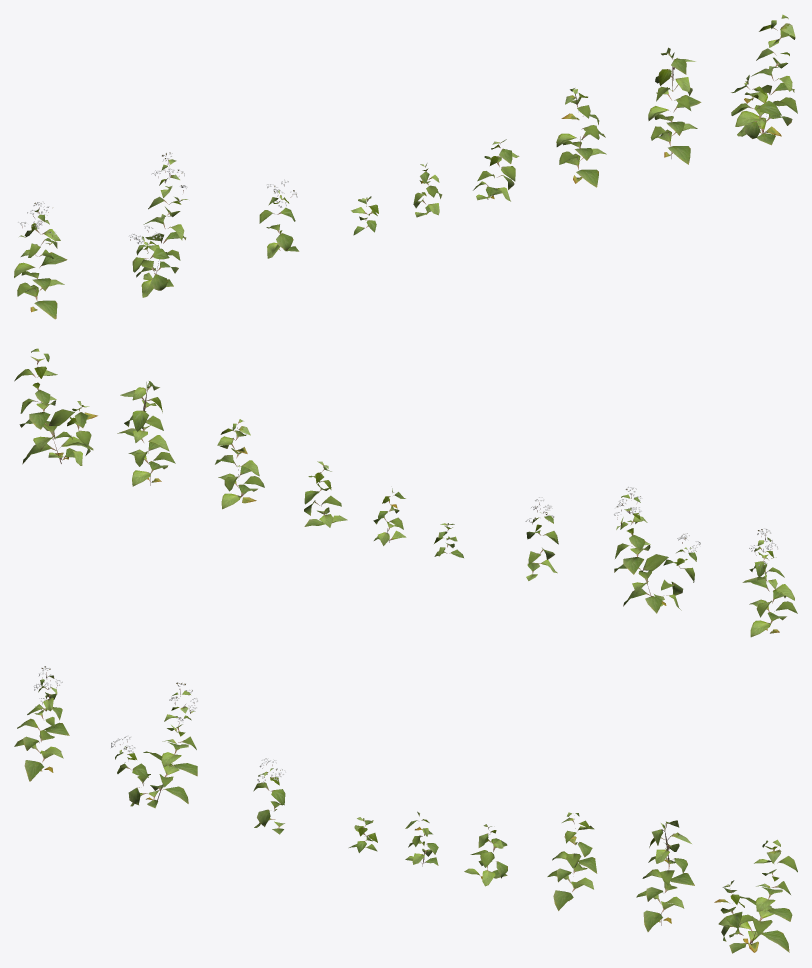
Rendered from shrub_01.glb.
The picture shows the model from 3 angles, top to bottom: view 1: azimuth 30°, elevation 25°; view 2: azimuth 150°, elevation 25°; view 3: azimuth 330°, elevation 25°; orthographic projection. The views are drawn at different scales.
Visible parts, largest first — view 1: shrub_01_a; view 2: shrub_01_a; view 3: shrub_01_a.
Boxes of the visible parts, <box> form: shrub_01_a: <box>14,14,797,319</box>; shrub_01_a: <box>14,348,797,637</box>; shrub_01_a: <box>14,666,797,953</box>.
Bounding box in the file's own units: 2.59 × 0.3945 × 0.2142.
1 material, 1 textured.
